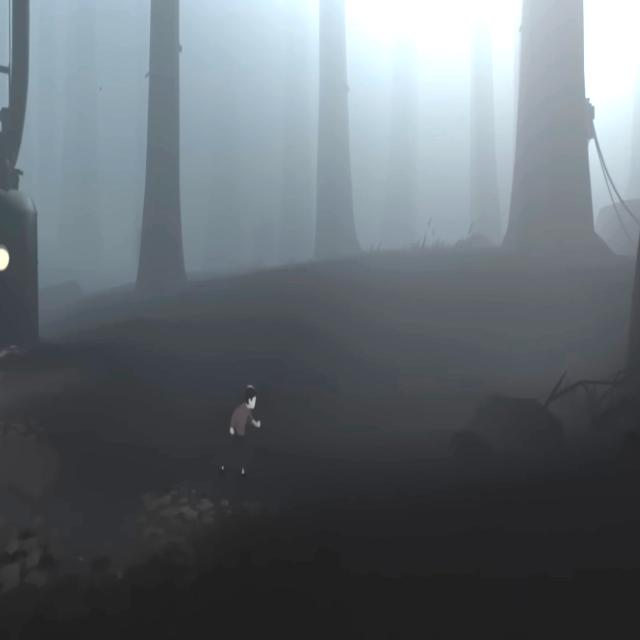boy: (220, 386, 262, 476)
